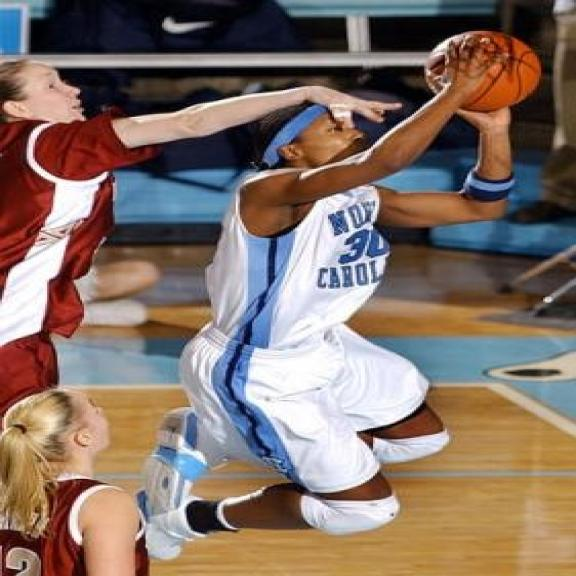face: (266, 104, 384, 172), (4, 61, 100, 126)
